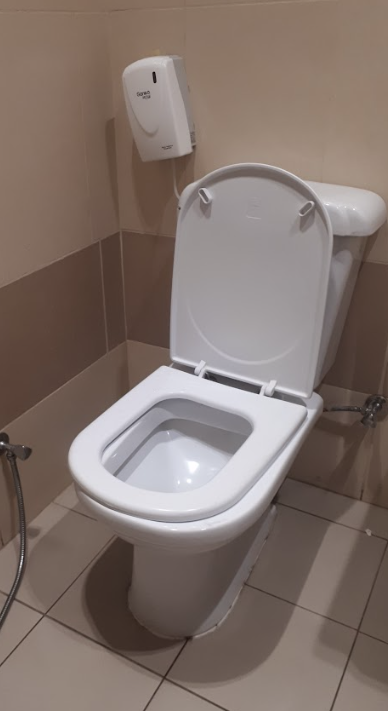Toilet: (54, 152, 388, 654)
